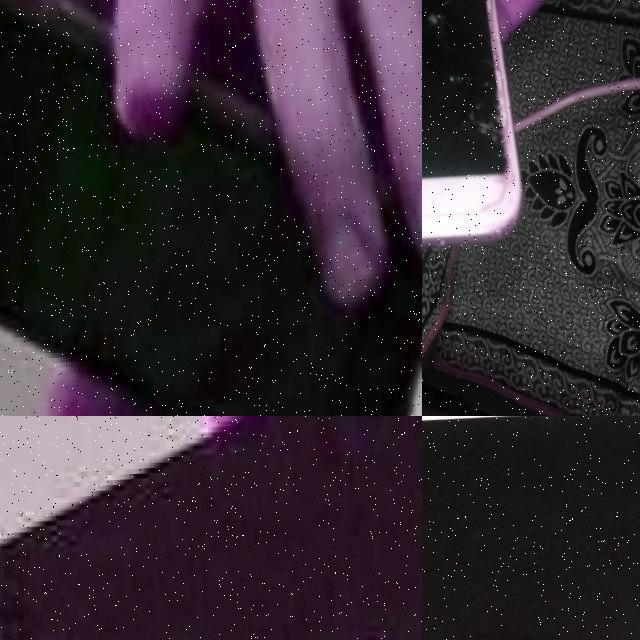screen crack: (465, 0, 527, 230)
